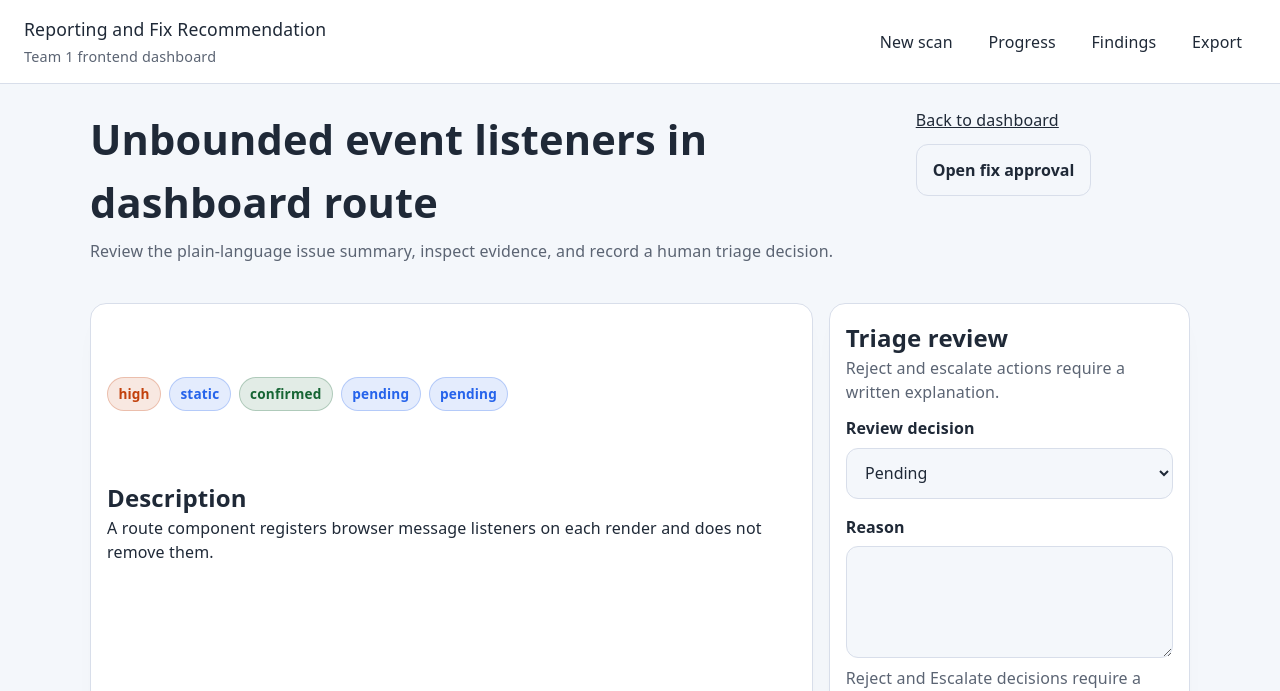
Scenario: FindingDetailPage › allows reject after a reason is entered
The width and height of the screenshot is (1280, 691).
Expected: the heading "Unbounded event listeners in dashboard route" is shown, [90,111,707,230]
Select "Reject" in the dropdown labelled "Review decision": [1009, 473] box [846,448,1173,499]
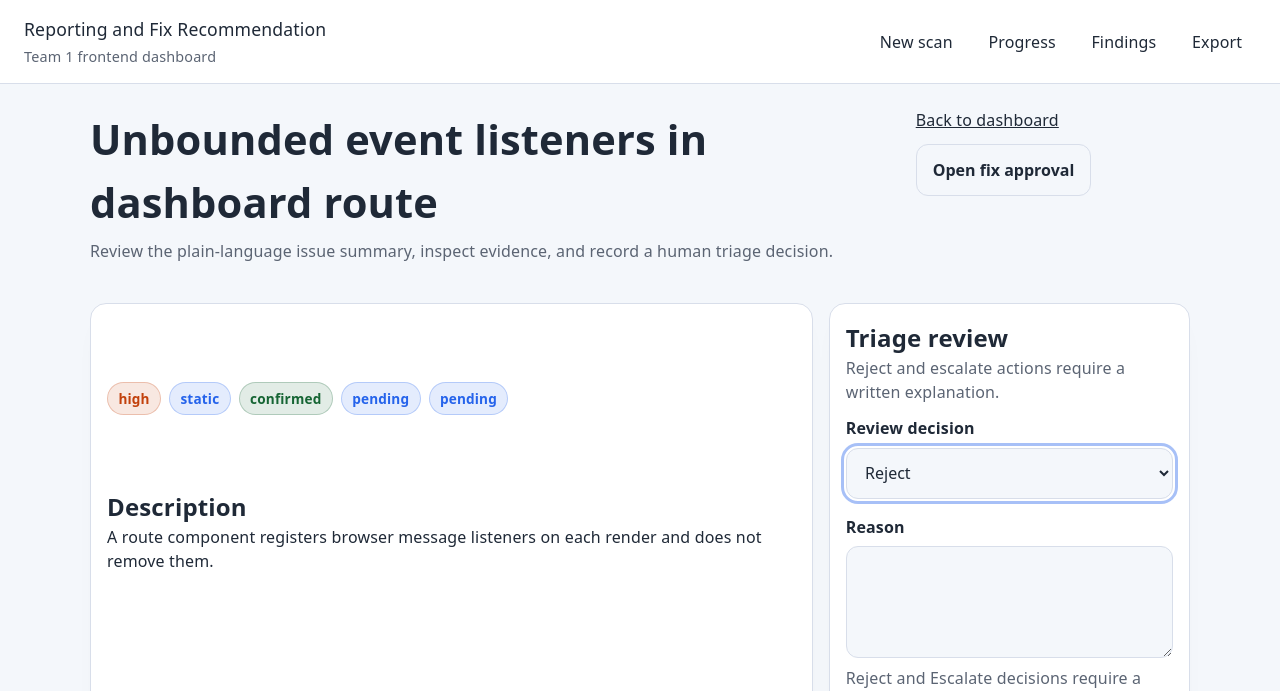
In the text box labelled "Reason": [1009, 602] box [846,546,1173,658], type "Needs confirmation from repo owner."
(page scrolled)
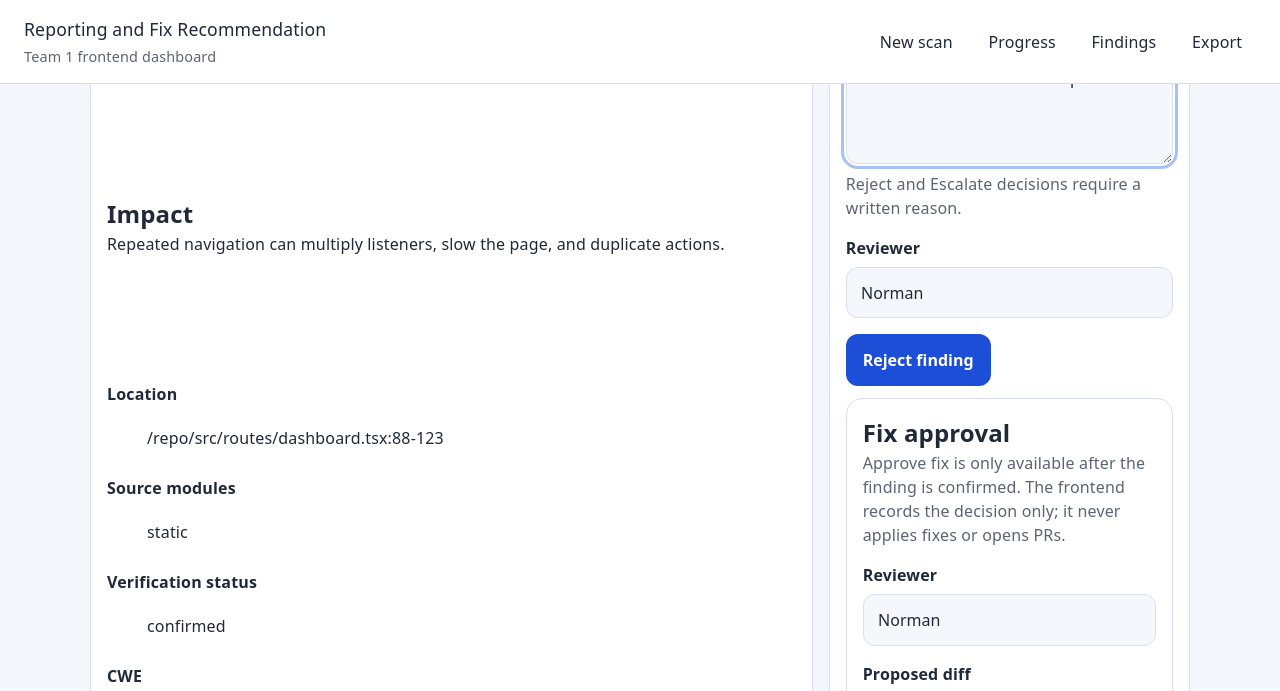
Now the button "Reject finding" is enabled, box [846,334,991,386]
